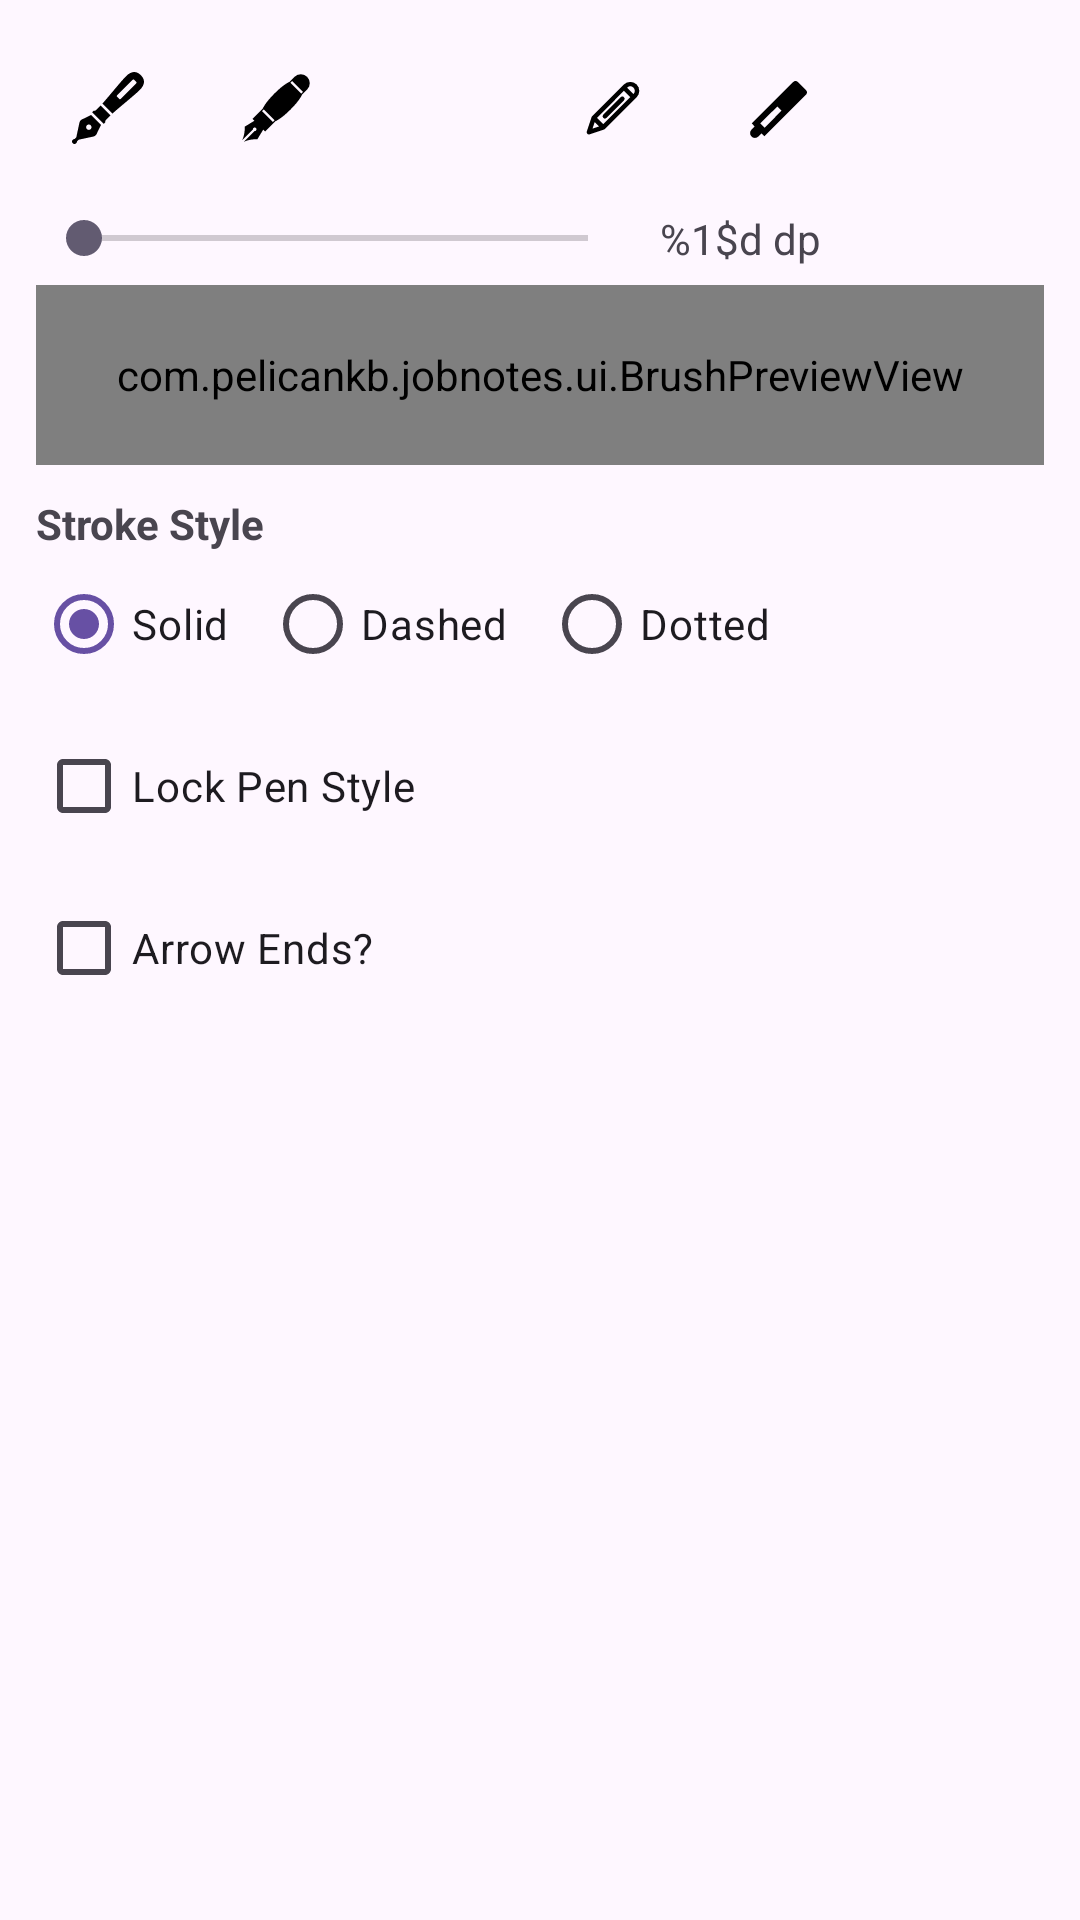

Icons on this 1080*1920 Android screen, each with its box as (x1=x1, y1=y1, x2=x2, y2=y2):
brush marker: (x1=750, y1=81, x2=807, y2=138)
brush pencil: (x1=586, y1=82, x2=640, y2=135)
